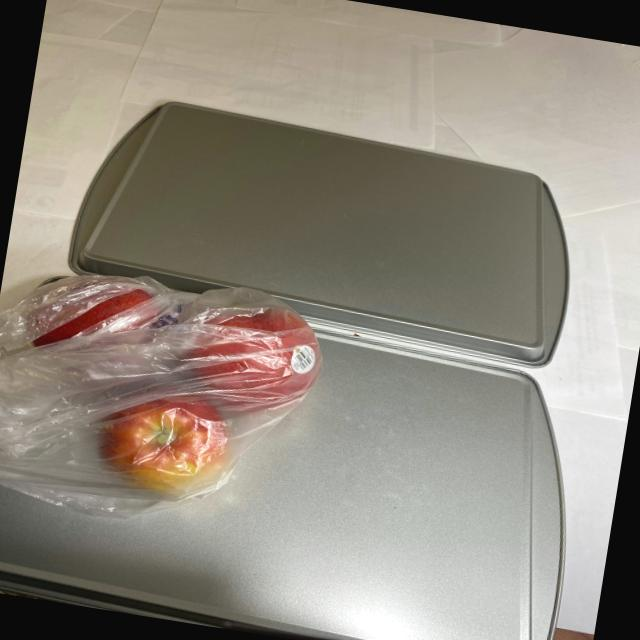apple: (8, 264, 340, 528)
